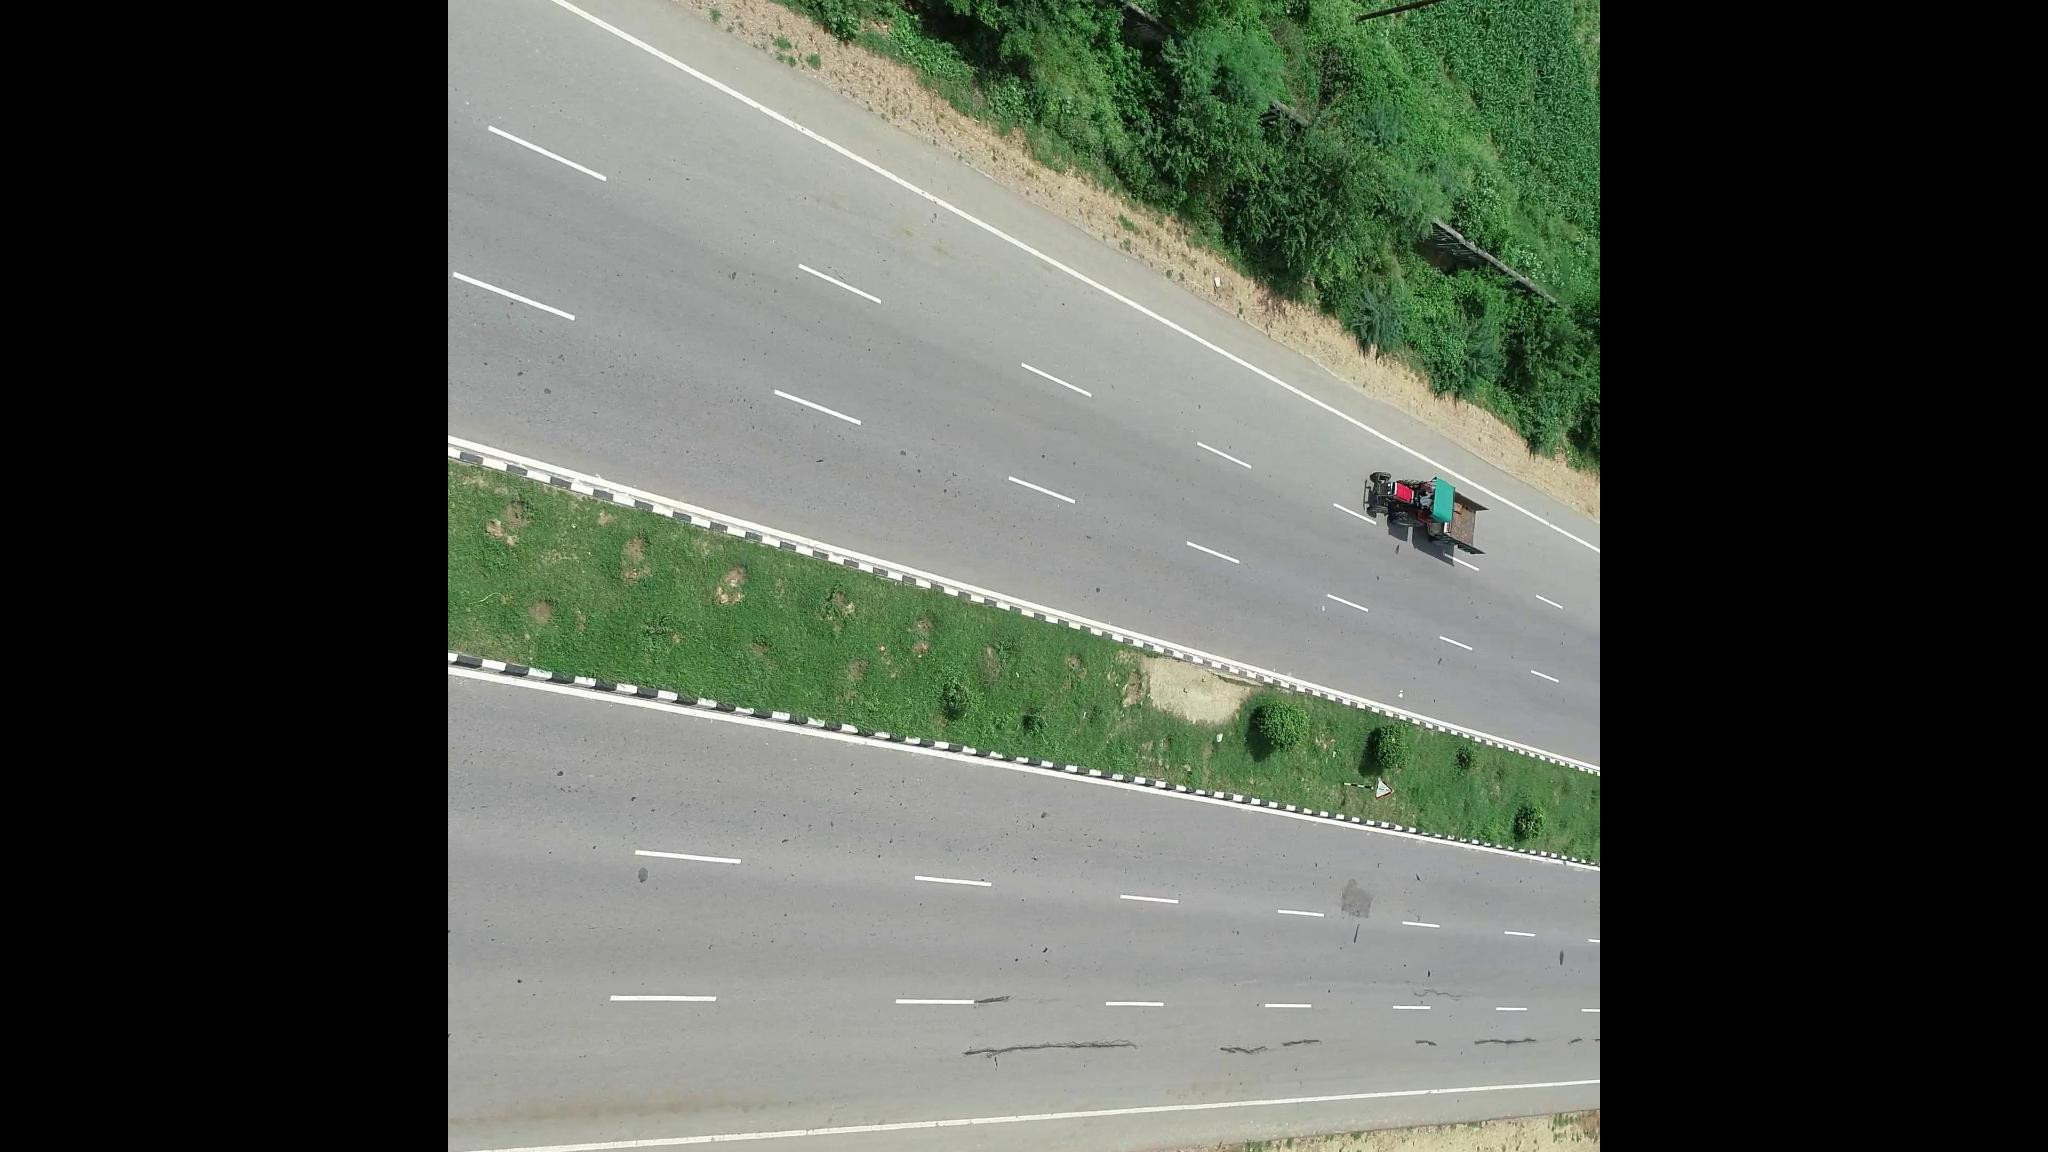Cracks: (959, 1023, 1139, 1075), (1414, 1028, 1601, 1065), (1228, 1028, 1340, 1075)
